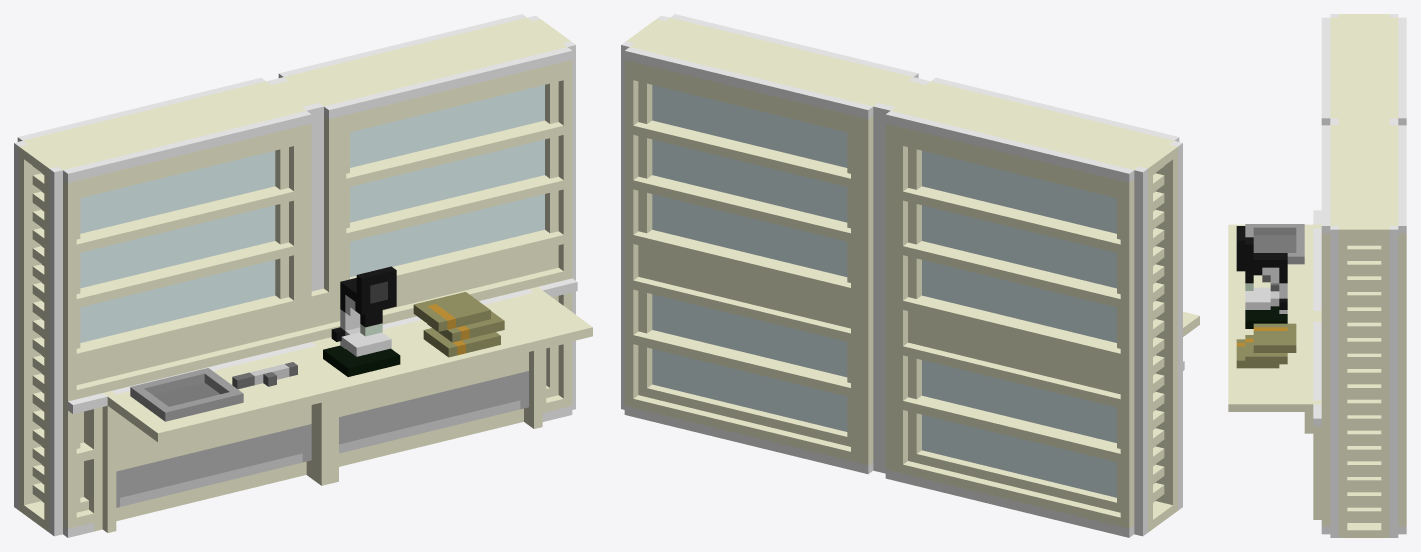
The model's file is Med Bay Wall 3.obj.
3 views of the same model, side by side, from view 1: azimuth 30°, elevation 25°; view 2: azimuth 150°, elevation 25°; view 3: azimuth 270°, elevation 25° (orthographic). The views are drawn at different scales.
Bounding box in the file's own units: 60 × 40 × 21.
Materials: 1 (1 with a texture image).
